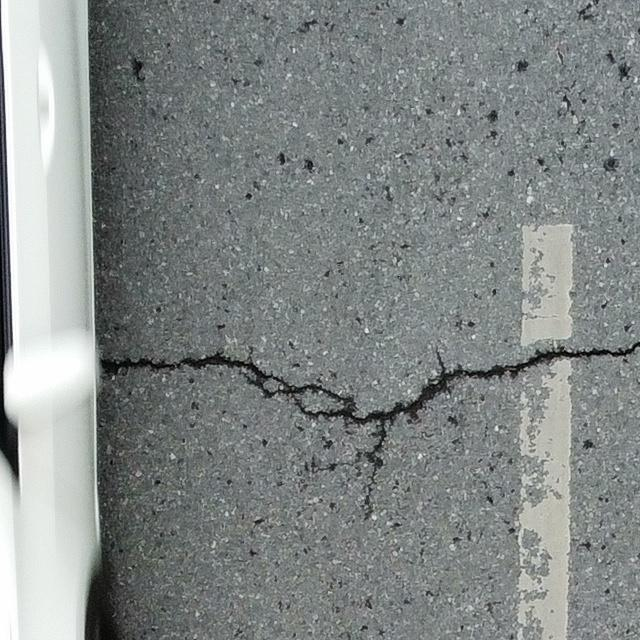TransverseCrack: (100, 341, 640, 469)
